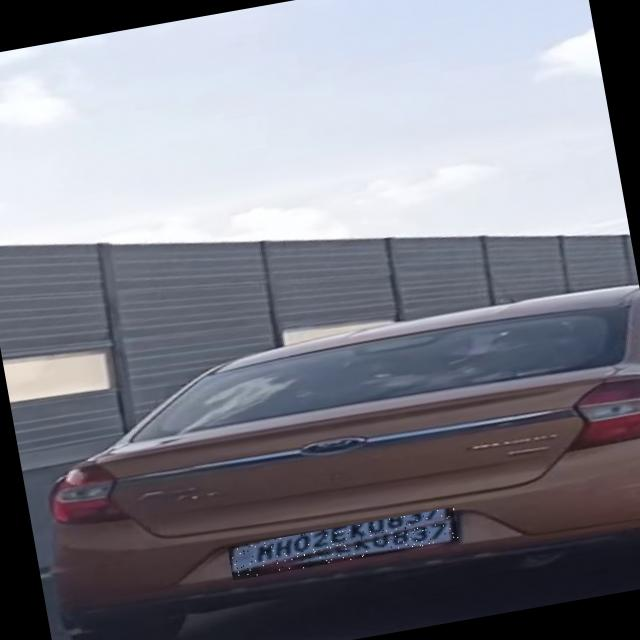Plate: (229, 508, 461, 581)
